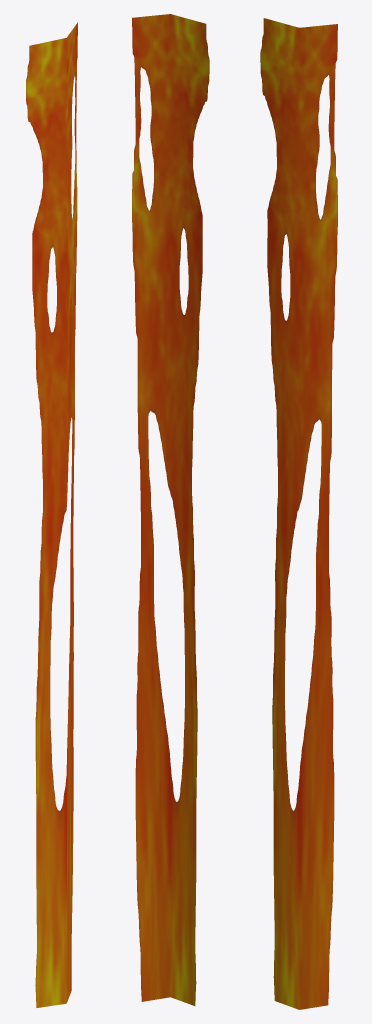
Rendered from fx_mx_yanjiang_a.FBX.
3 renders of one model, left to right at view 1: azimuth 30°, elevation 25°; view 2: azimuth 150°, elevation 25°; view 3: azimuth 330°, elevation 25°, orthographic.
Visible parts, largest first — view 1: mx_yh; view 2: mx_yh; view 3: mx_yh.
Part boxes in pixels (x1,y1,x2,y2): mx_yh: [26, 22, 77, 1007]; mx_yh: [132, 14, 209, 1005]; mx_yh: [260, 18, 337, 1009].
Bounding box in the file's own units: 467 × 4897 × 185.
